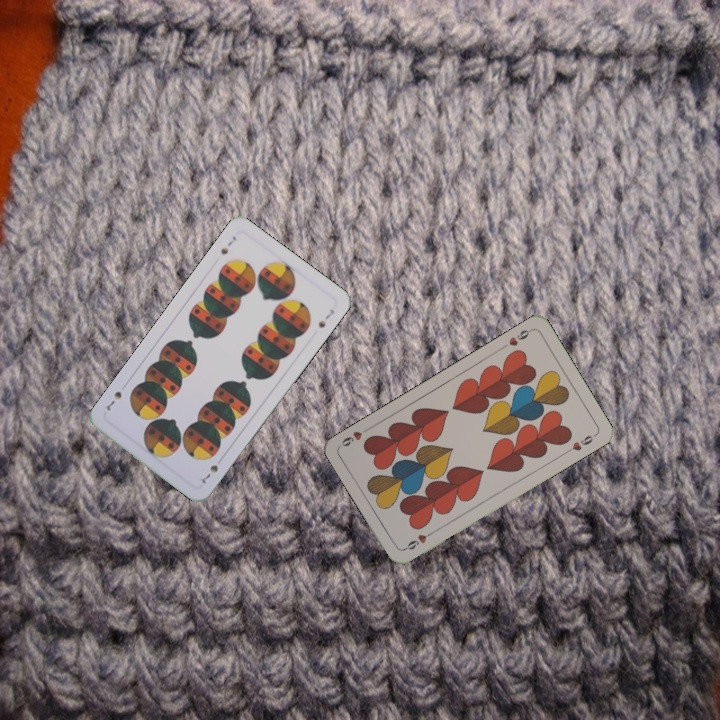H9: (498, 325, 535, 351), (400, 527, 437, 553)
S7: (197, 461, 221, 486), (217, 232, 239, 257)
